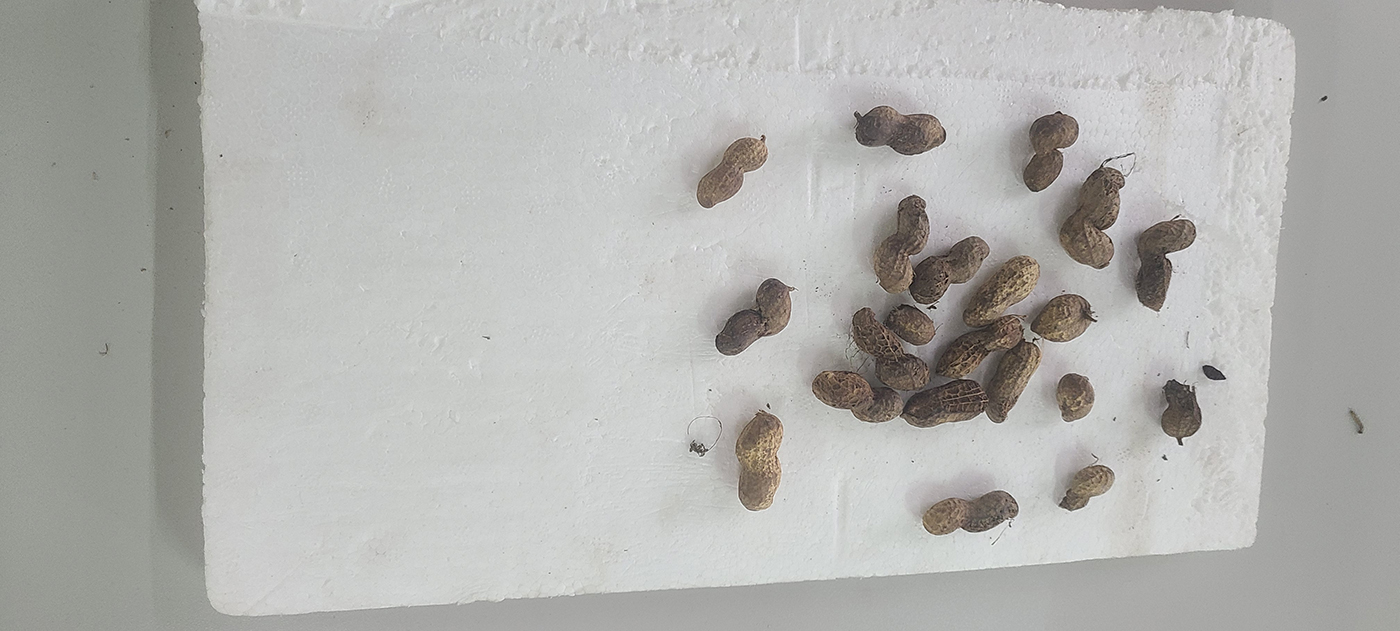l: (1061, 166, 1125, 269), (852, 308, 930, 390), (715, 278, 792, 356), (1134, 220, 1196, 313), (874, 194, 929, 294), (962, 257, 1040, 326), (911, 236, 990, 303), (937, 318, 1024, 378), (696, 137, 768, 209), (734, 411, 784, 511), (812, 370, 904, 424), (855, 105, 947, 156), (985, 341, 1041, 424), (923, 489, 1019, 535), (902, 380, 988, 428), (1030, 294, 1092, 343), (1059, 465, 1115, 510), (1162, 379, 1201, 440), (887, 304, 937, 345), (1056, 373, 1096, 423), (1030, 113, 1079, 152), (1023, 149, 1064, 192)
